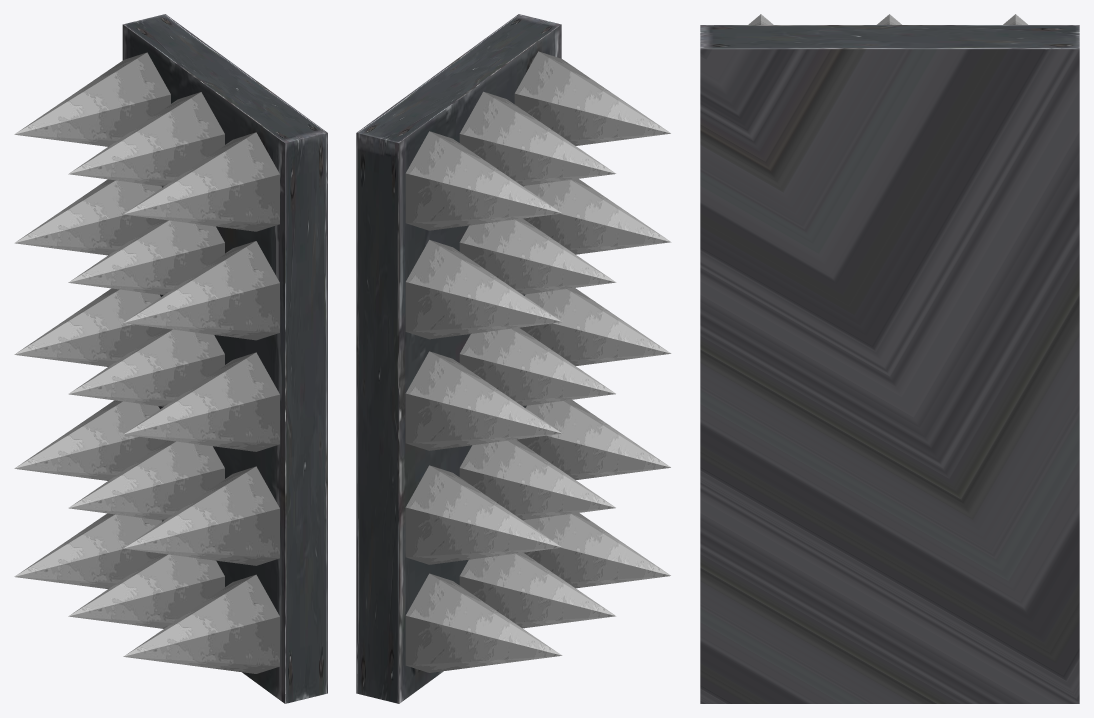
The model's file is Spikes vertical.fbx.
3 views of the same model, side by side, from view 1: azimuth 30°, elevation 25°; view 2: azimuth 150°, elevation 25°; view 3: azimuth 270°, elevation 25° (orthographic). The views are drawn at different scales.
Parts seen in each view (by area): view 1: polySurface16; view 2: polySurface16; view 3: polySurface16.
Part boxes in pixels (<box>): polySurface16: <box>14,14,327,703</box>; polySurface16: <box>356,14,671,703</box>; polySurface16: <box>700,14,1079,703</box>.
Size of the model in its own units: 2.12 by 6.36 by 3.34.
Materials: 1 (1 with a texture image).
